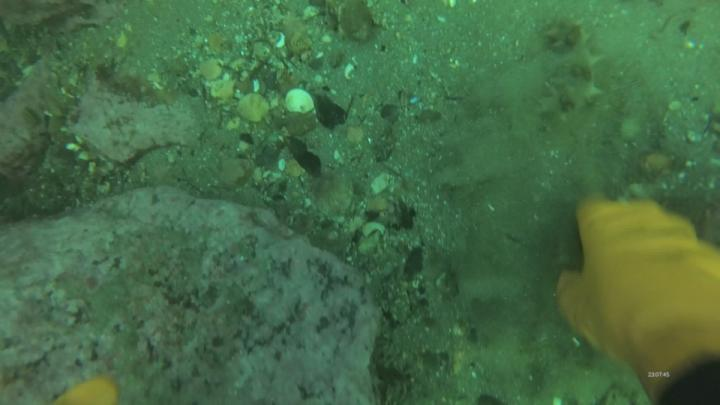holothurian: (544, 18, 602, 141)
